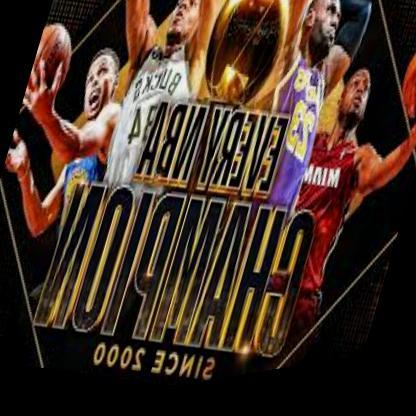basketball: (23, 18, 80, 115), (389, 48, 416, 141)
